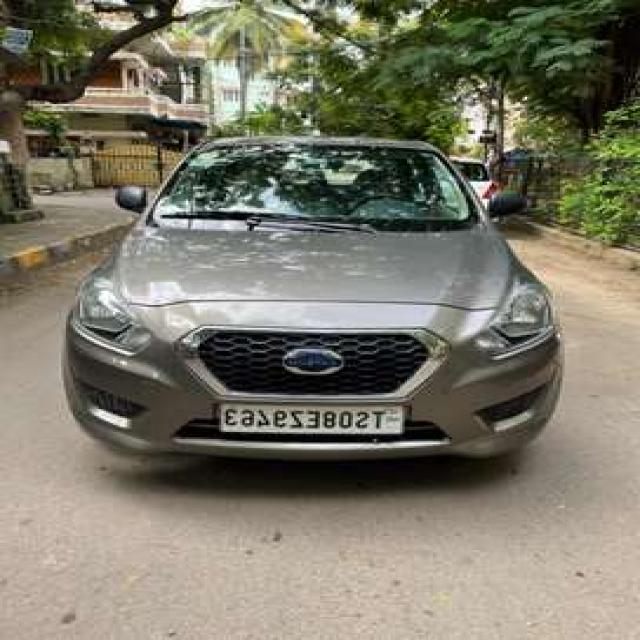license_plate: (210, 397, 411, 441)
